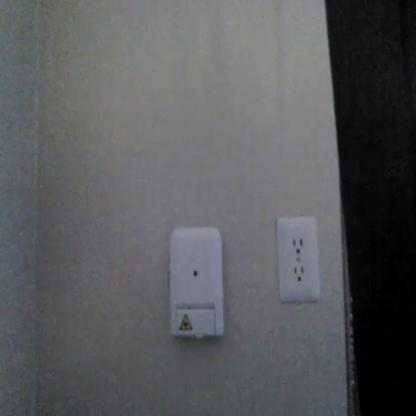OUTLET: (275, 216, 322, 304)
